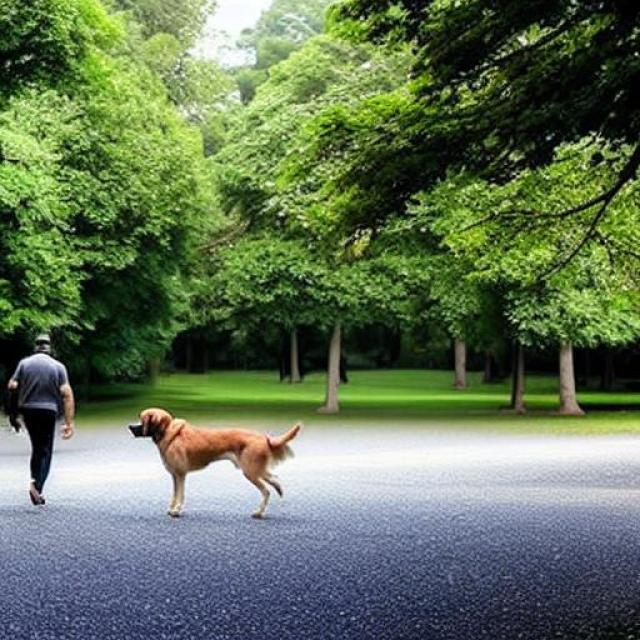Unleashed_Dog: (25, 400, 301, 518)
